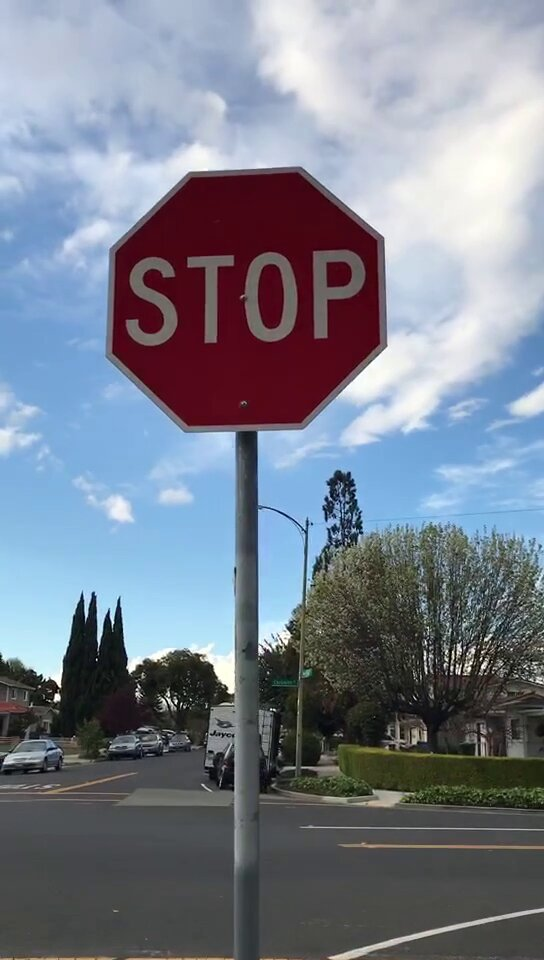stop_sign: (107, 172, 388, 432)
